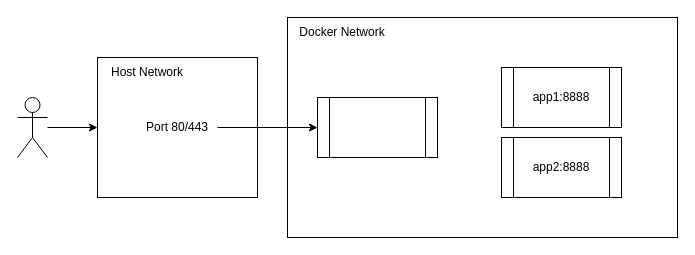
This 695x255 diagram has some shape labels left out. The shapes that lost their labels are listed below. From the top down, each one's box as (x1, y1, x2, y2) in pixels, then its label:
(16, 96, 48, 158): Actor
(316, 96, 438, 158): Nginx:80/443
